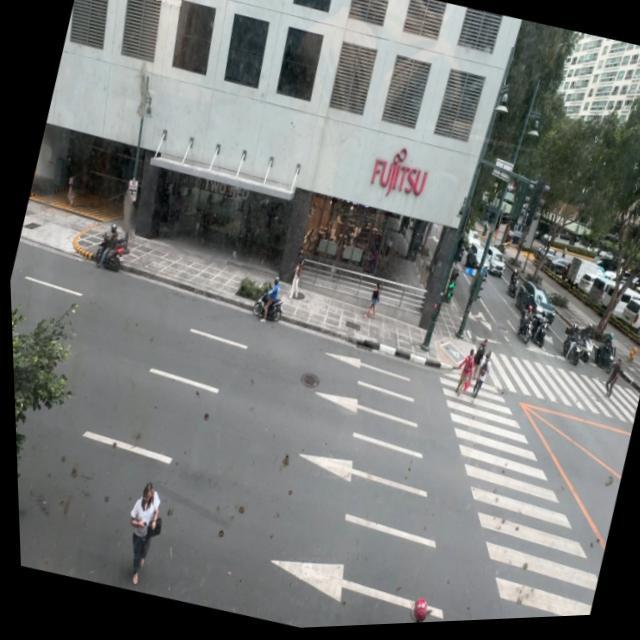jaywalking: (112, 480, 170, 586)
